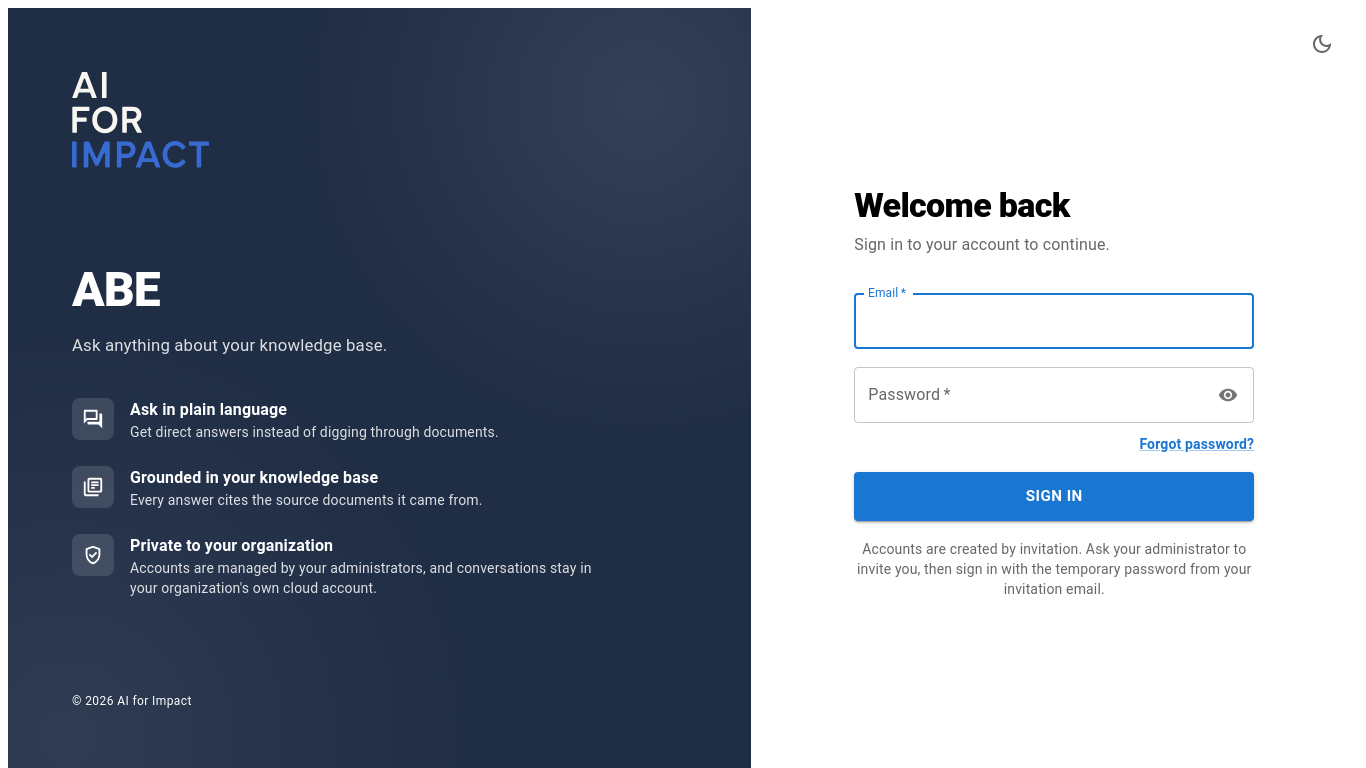
Test case: LoginPage › sends a reset code from the forgot-password view
Click the button "Forgot password?": (1197, 444) [1139,434,1254,454]
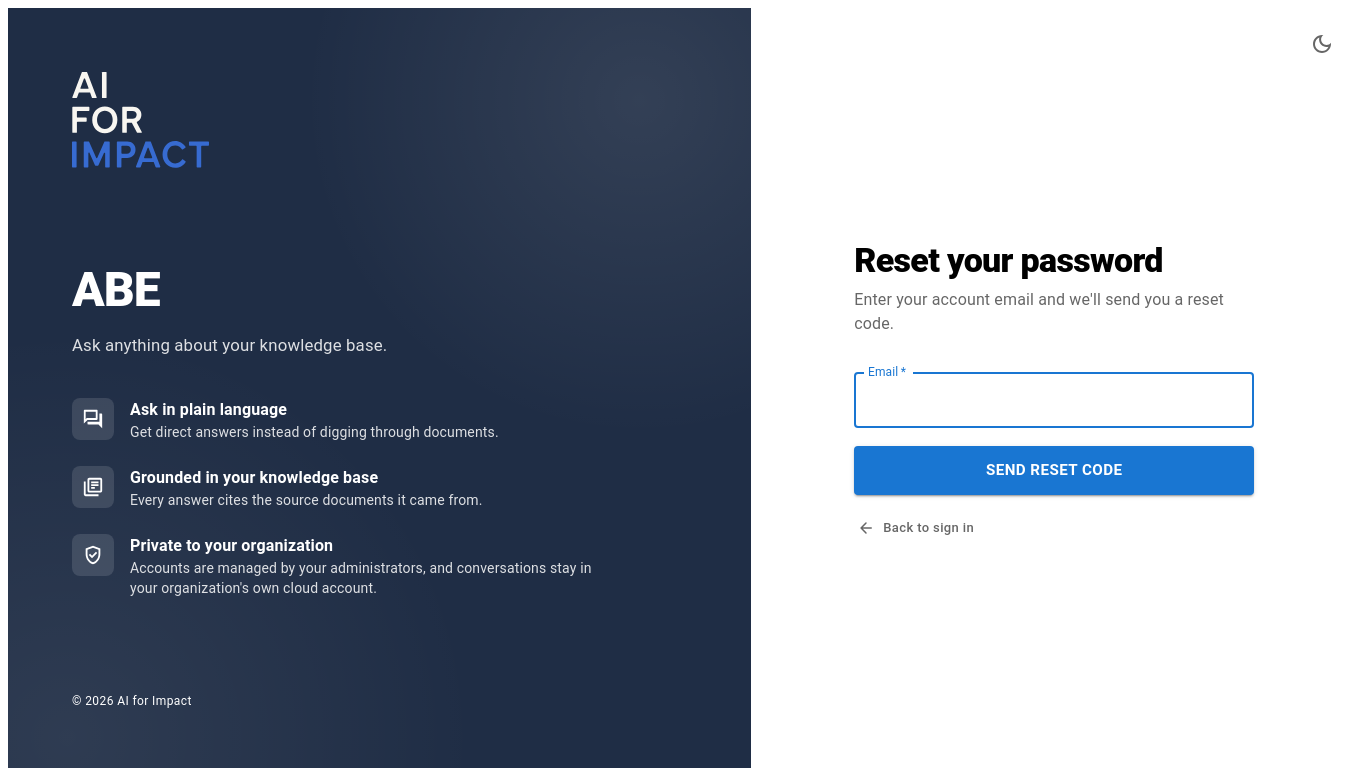
Expected: the heading "Reset your password" is shown, [854,240,1163,280]
In the field labelled "Email *": (1054, 400) [854,372,1254,428], type "user@example.com"
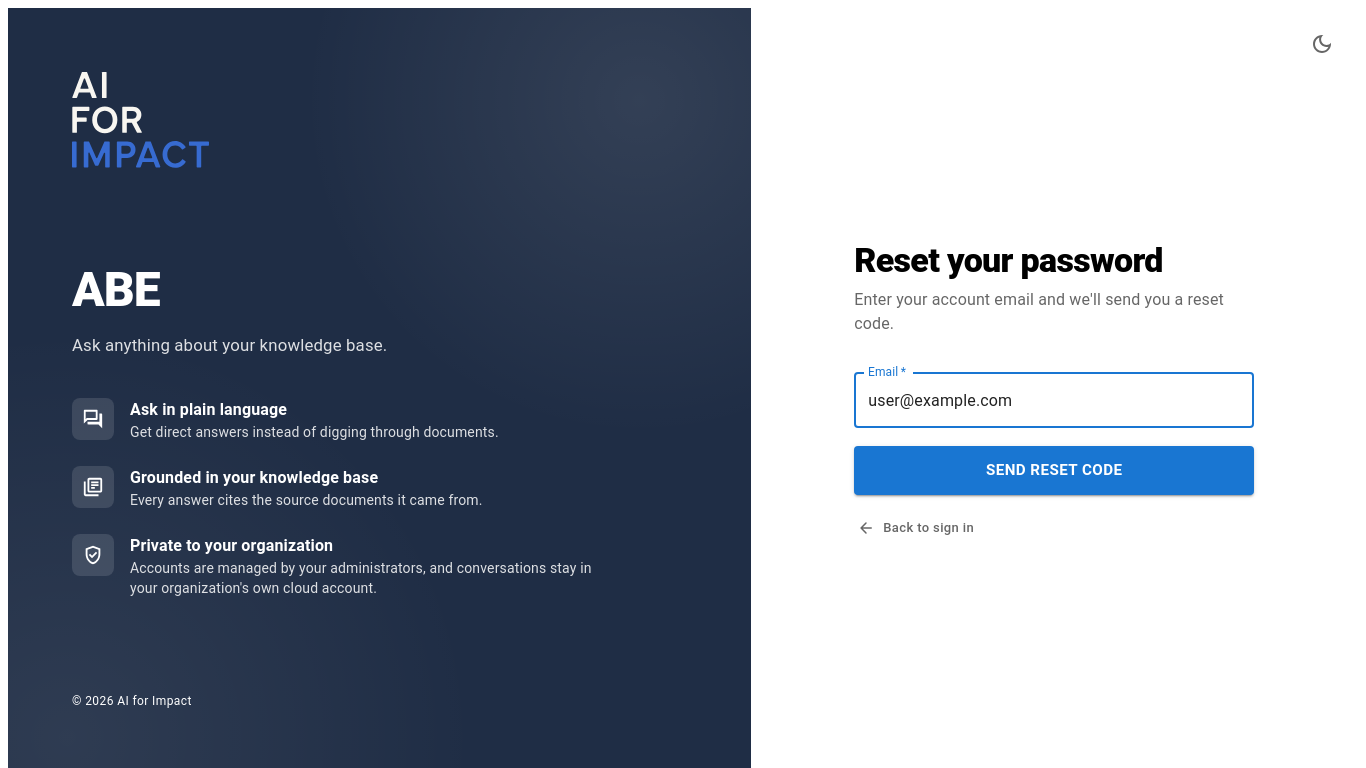
Click the button "Send reset code": (1054, 471) [854,446,1254,495]
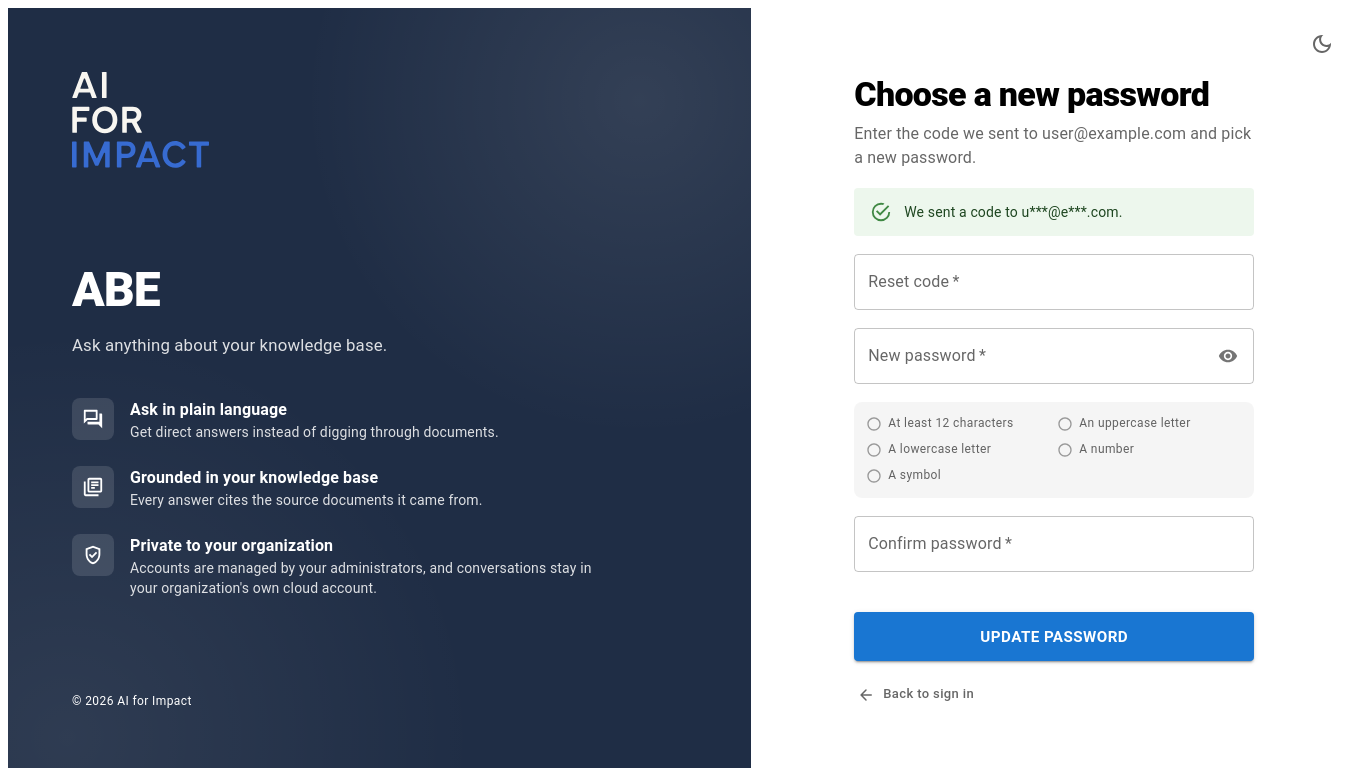
Expected: the heading "Choose a new password" is shown, [854,74,1254,116]
